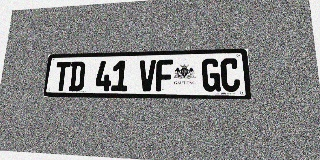1: (111, 60, 128, 91)
4: (95, 61, 112, 91)
C: (220, 58, 240, 92)
D: (68, 61, 86, 91)
F: (156, 59, 173, 91)
G: (202, 58, 221, 92)
T: (54, 62, 71, 91)
V: (139, 60, 156, 91)
